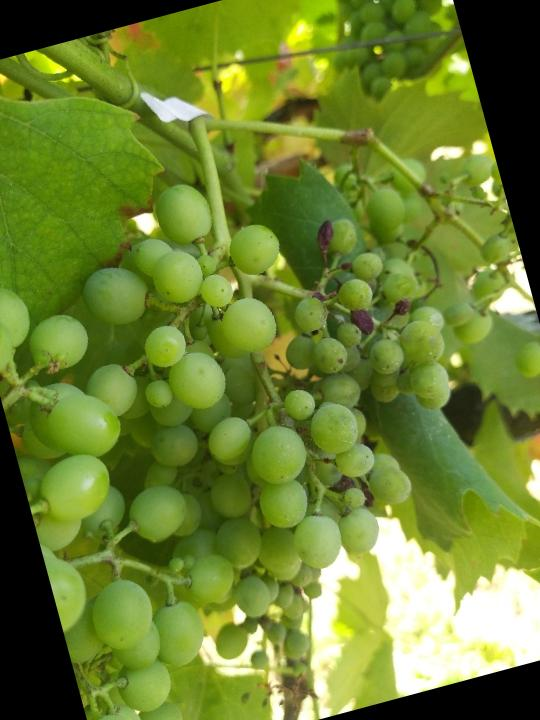grape: (40, 122, 516, 657)
